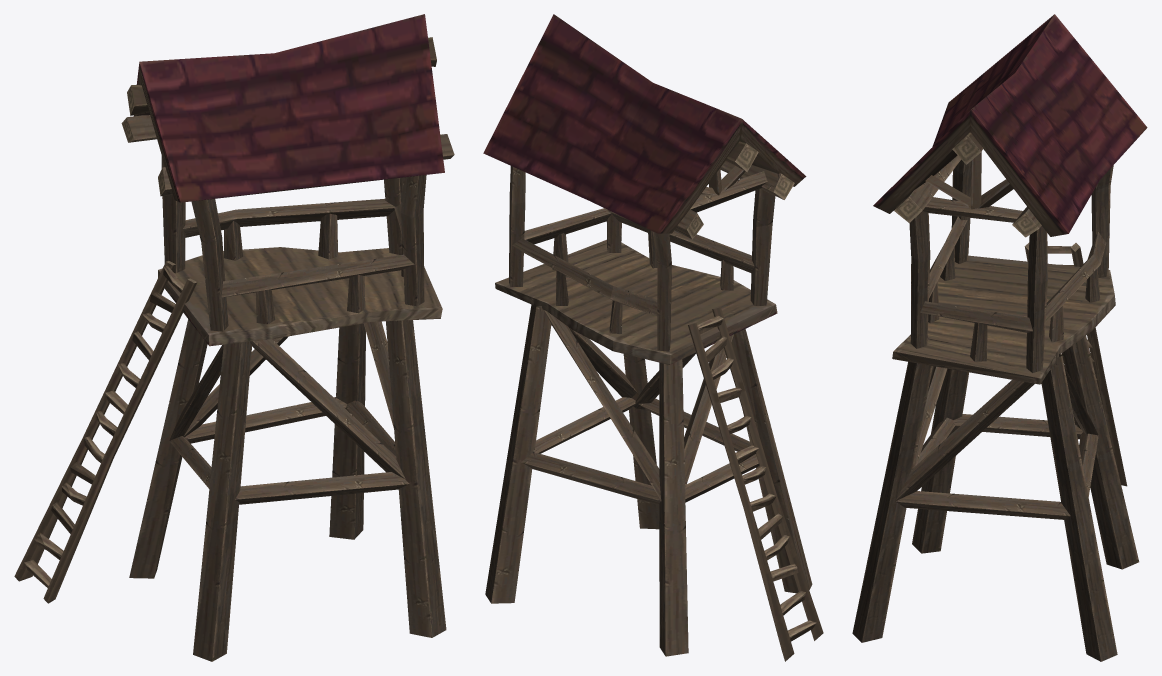
Rendered from building_guardtower2.fbx.
3 renders of one model, left to right at view 1: azimuth 30°, elevation 25°; view 2: azimuth 150°, elevation 25°; view 3: azimuth 270°, elevation 25°, orthographic. The views are drawn at different scales.
Parts seen in each view (by area): view 1: obj0.047; view 2: obj0.047; view 3: obj0.047.
Part boxes in pixels (x1,y1,x2,y2): obj0.047: (14,14,454,661); obj0.047: (483,14,823,661); obj0.047: (852,14,1147,661).
Size of the model in its own units: 6.53 by 9.84 by 4.78.
